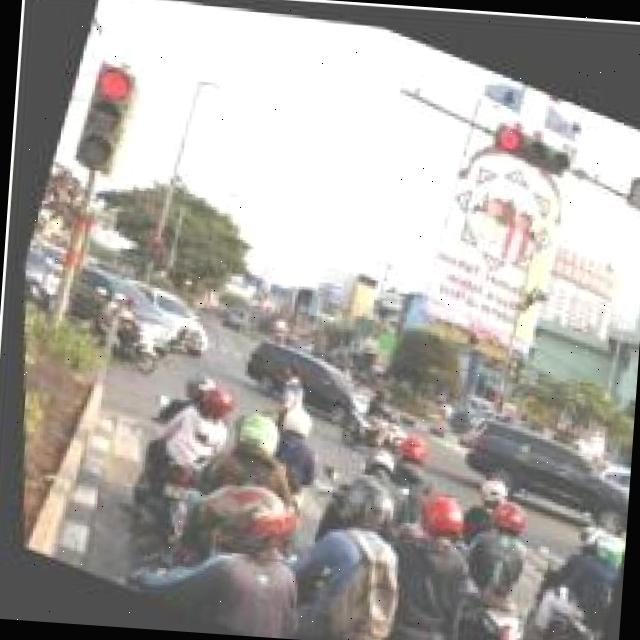red_light: (64, 56, 140, 170), (485, 114, 573, 168)
